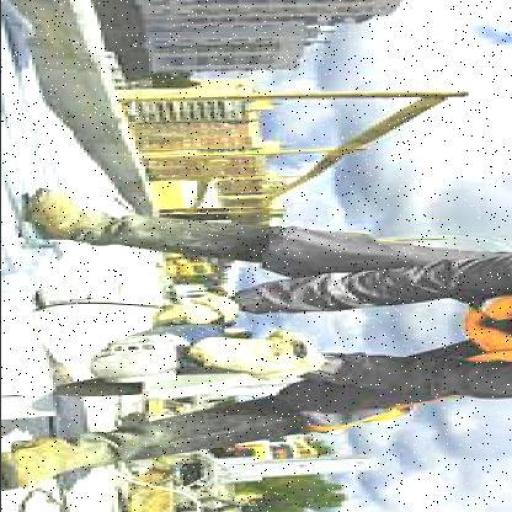safety_shoe: (1, 395, 281, 492), (16, 191, 266, 253)
